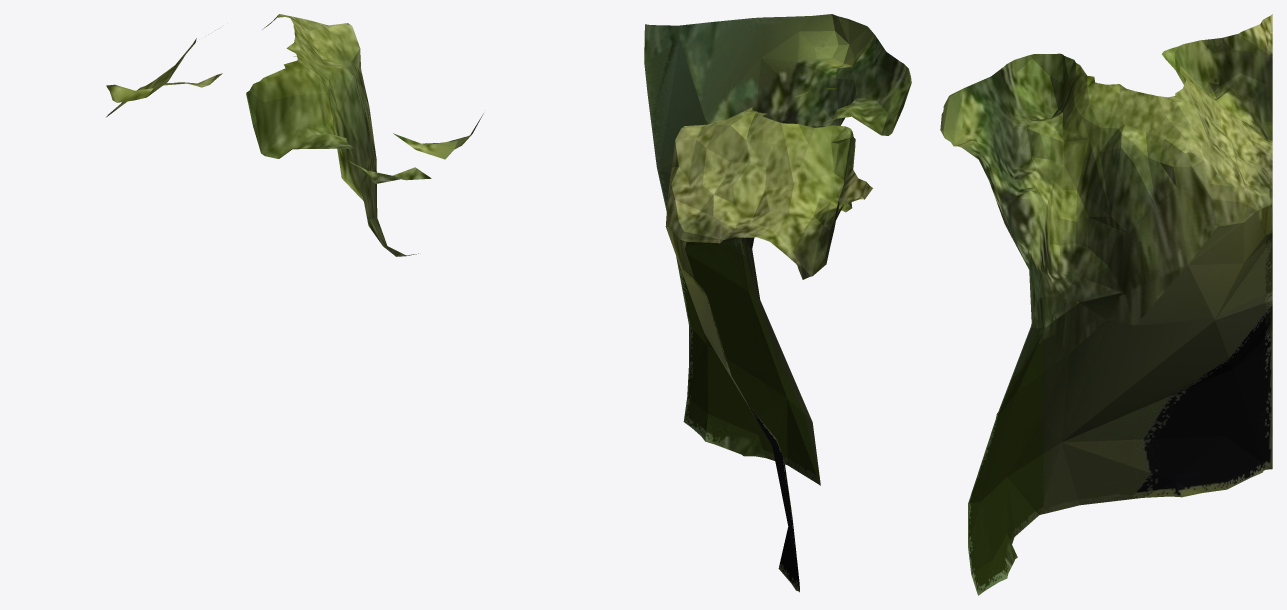
3 views of the same model, side by side, from view 1: azimuth 30°, elevation 25°; view 2: azimuth 150°, elevation 25°; view 3: azimuth 270°, elevation 25° (orthographic). The views are drawn at different scales.
Bounding box in the file's own units: 4.91 × 5.9 × 4.24.
3 materials, 3 textured.
